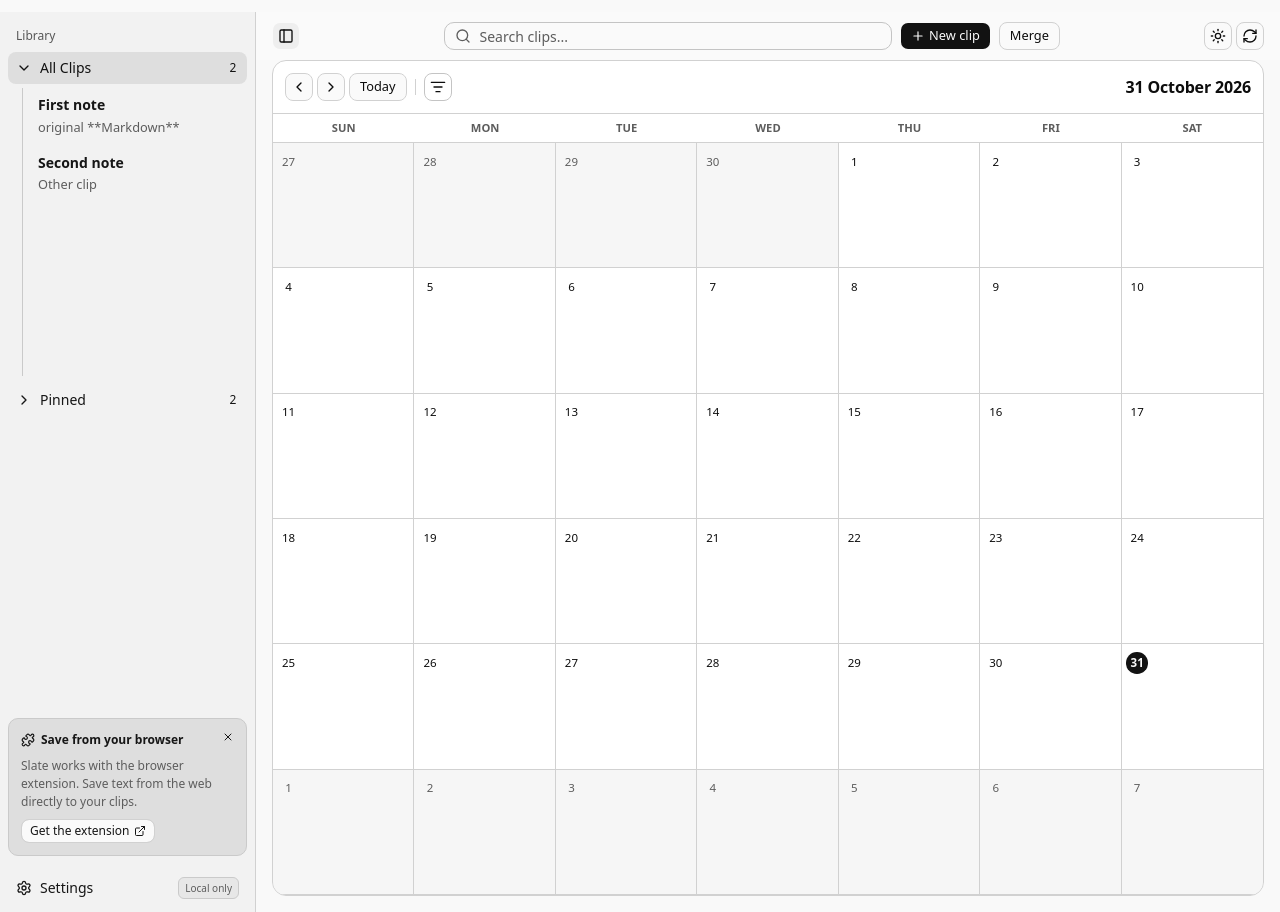
Test: Copy reads persisted content after a successful inline save
Click the button "First note original **Markdown**" at coordinates (138, 116), box [29,88,247,144]
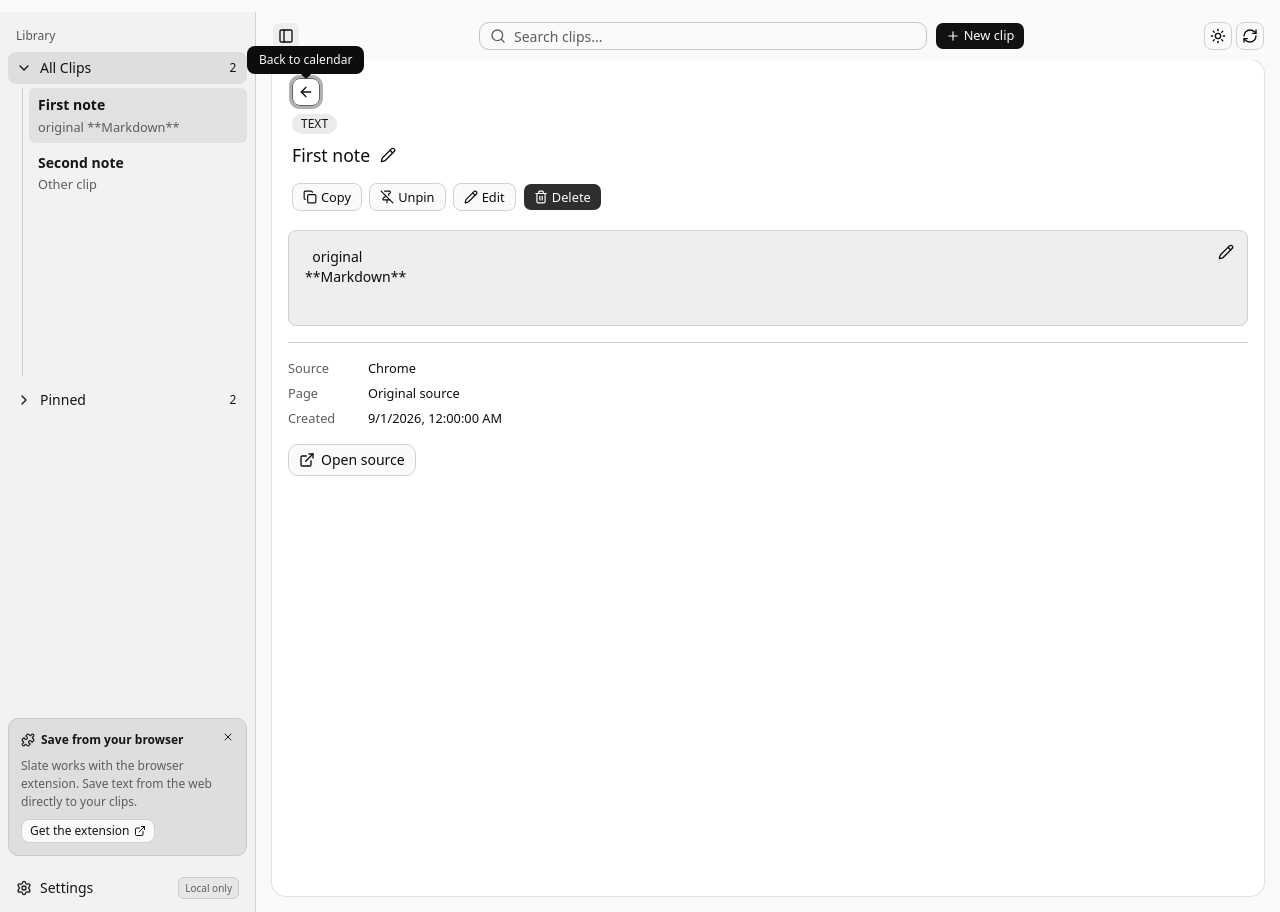
Expected: the button named "Edit content" is shown
Click the button named "Edit content" at coordinates (1226, 252), box [1212,238,1240,266]
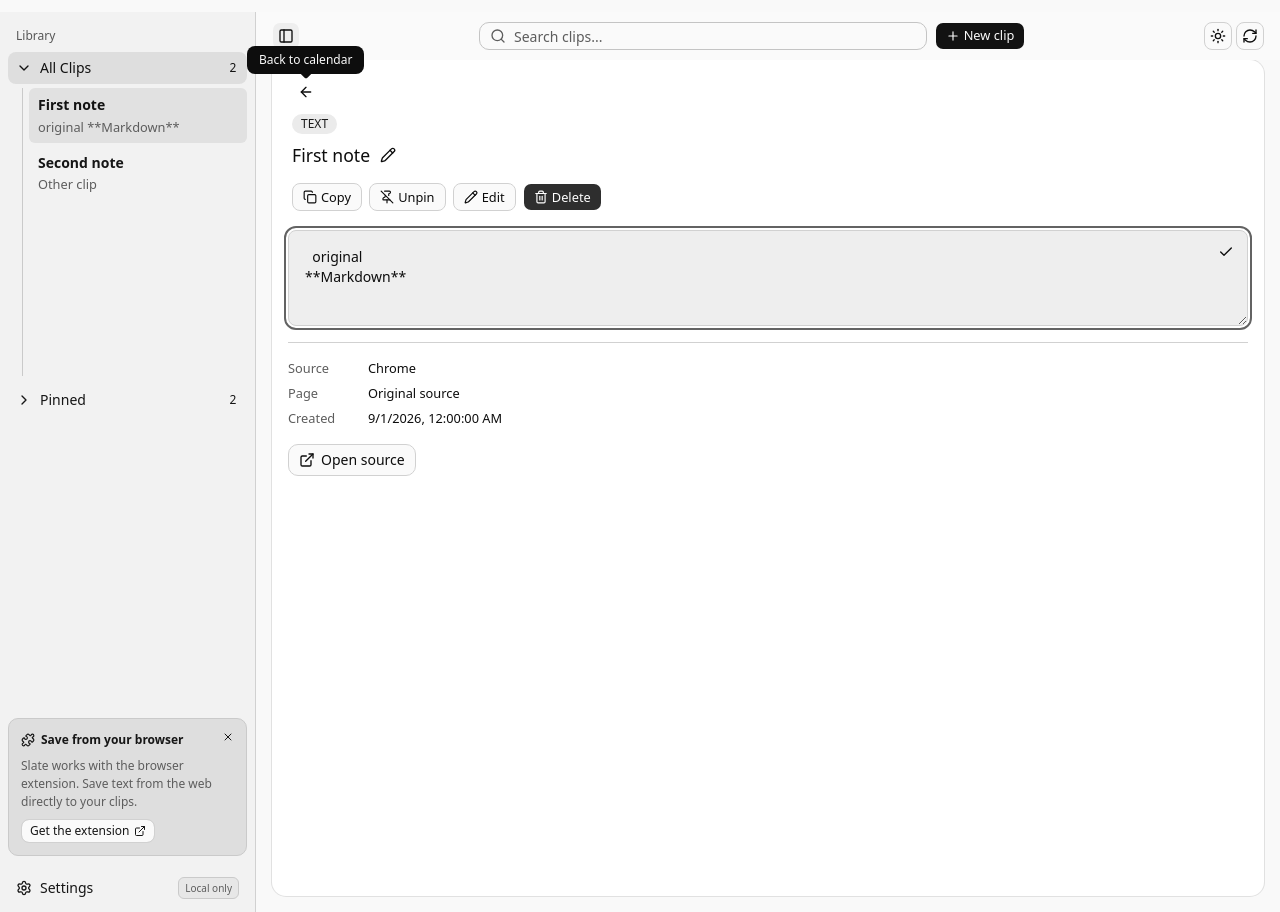
Replace the text in the text box named "Clip content" with "New content" at coordinates (768, 278), box [288,230,1248,326]
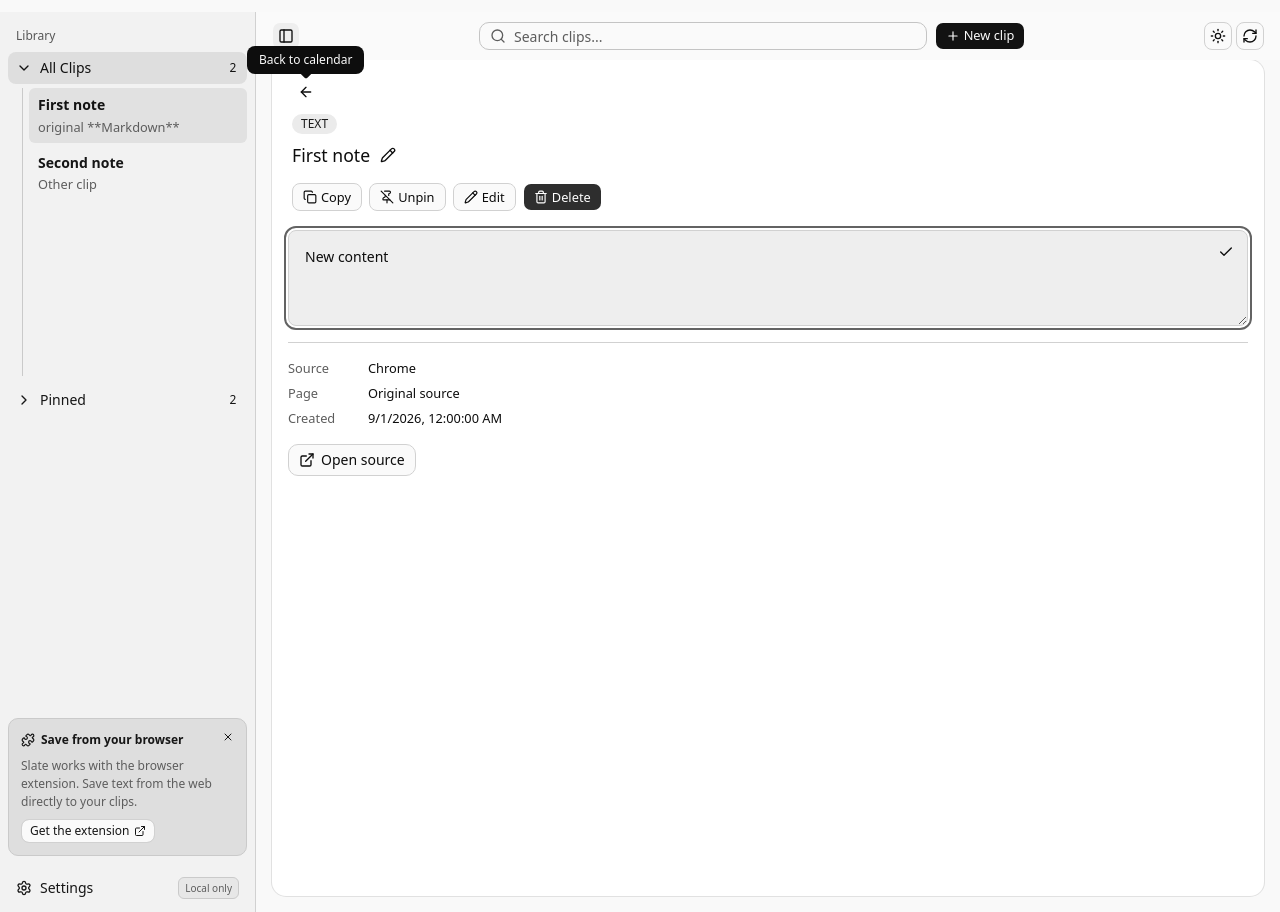
Click the button "Copy" at coordinates (327, 197), box [292,183,362,211]
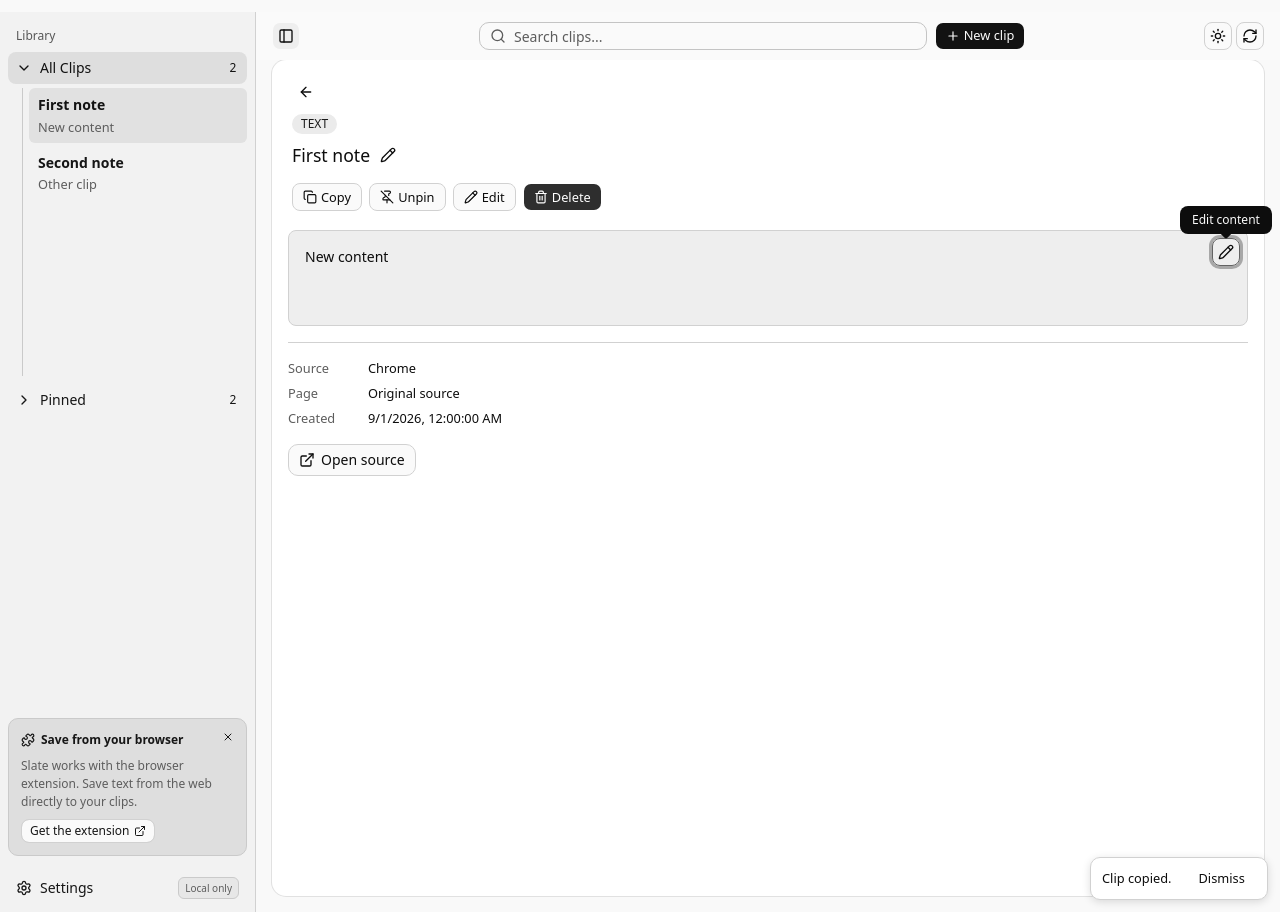
Expected: the 1st text "original **Markdown**" reads "New content", [38,118,114,136]
